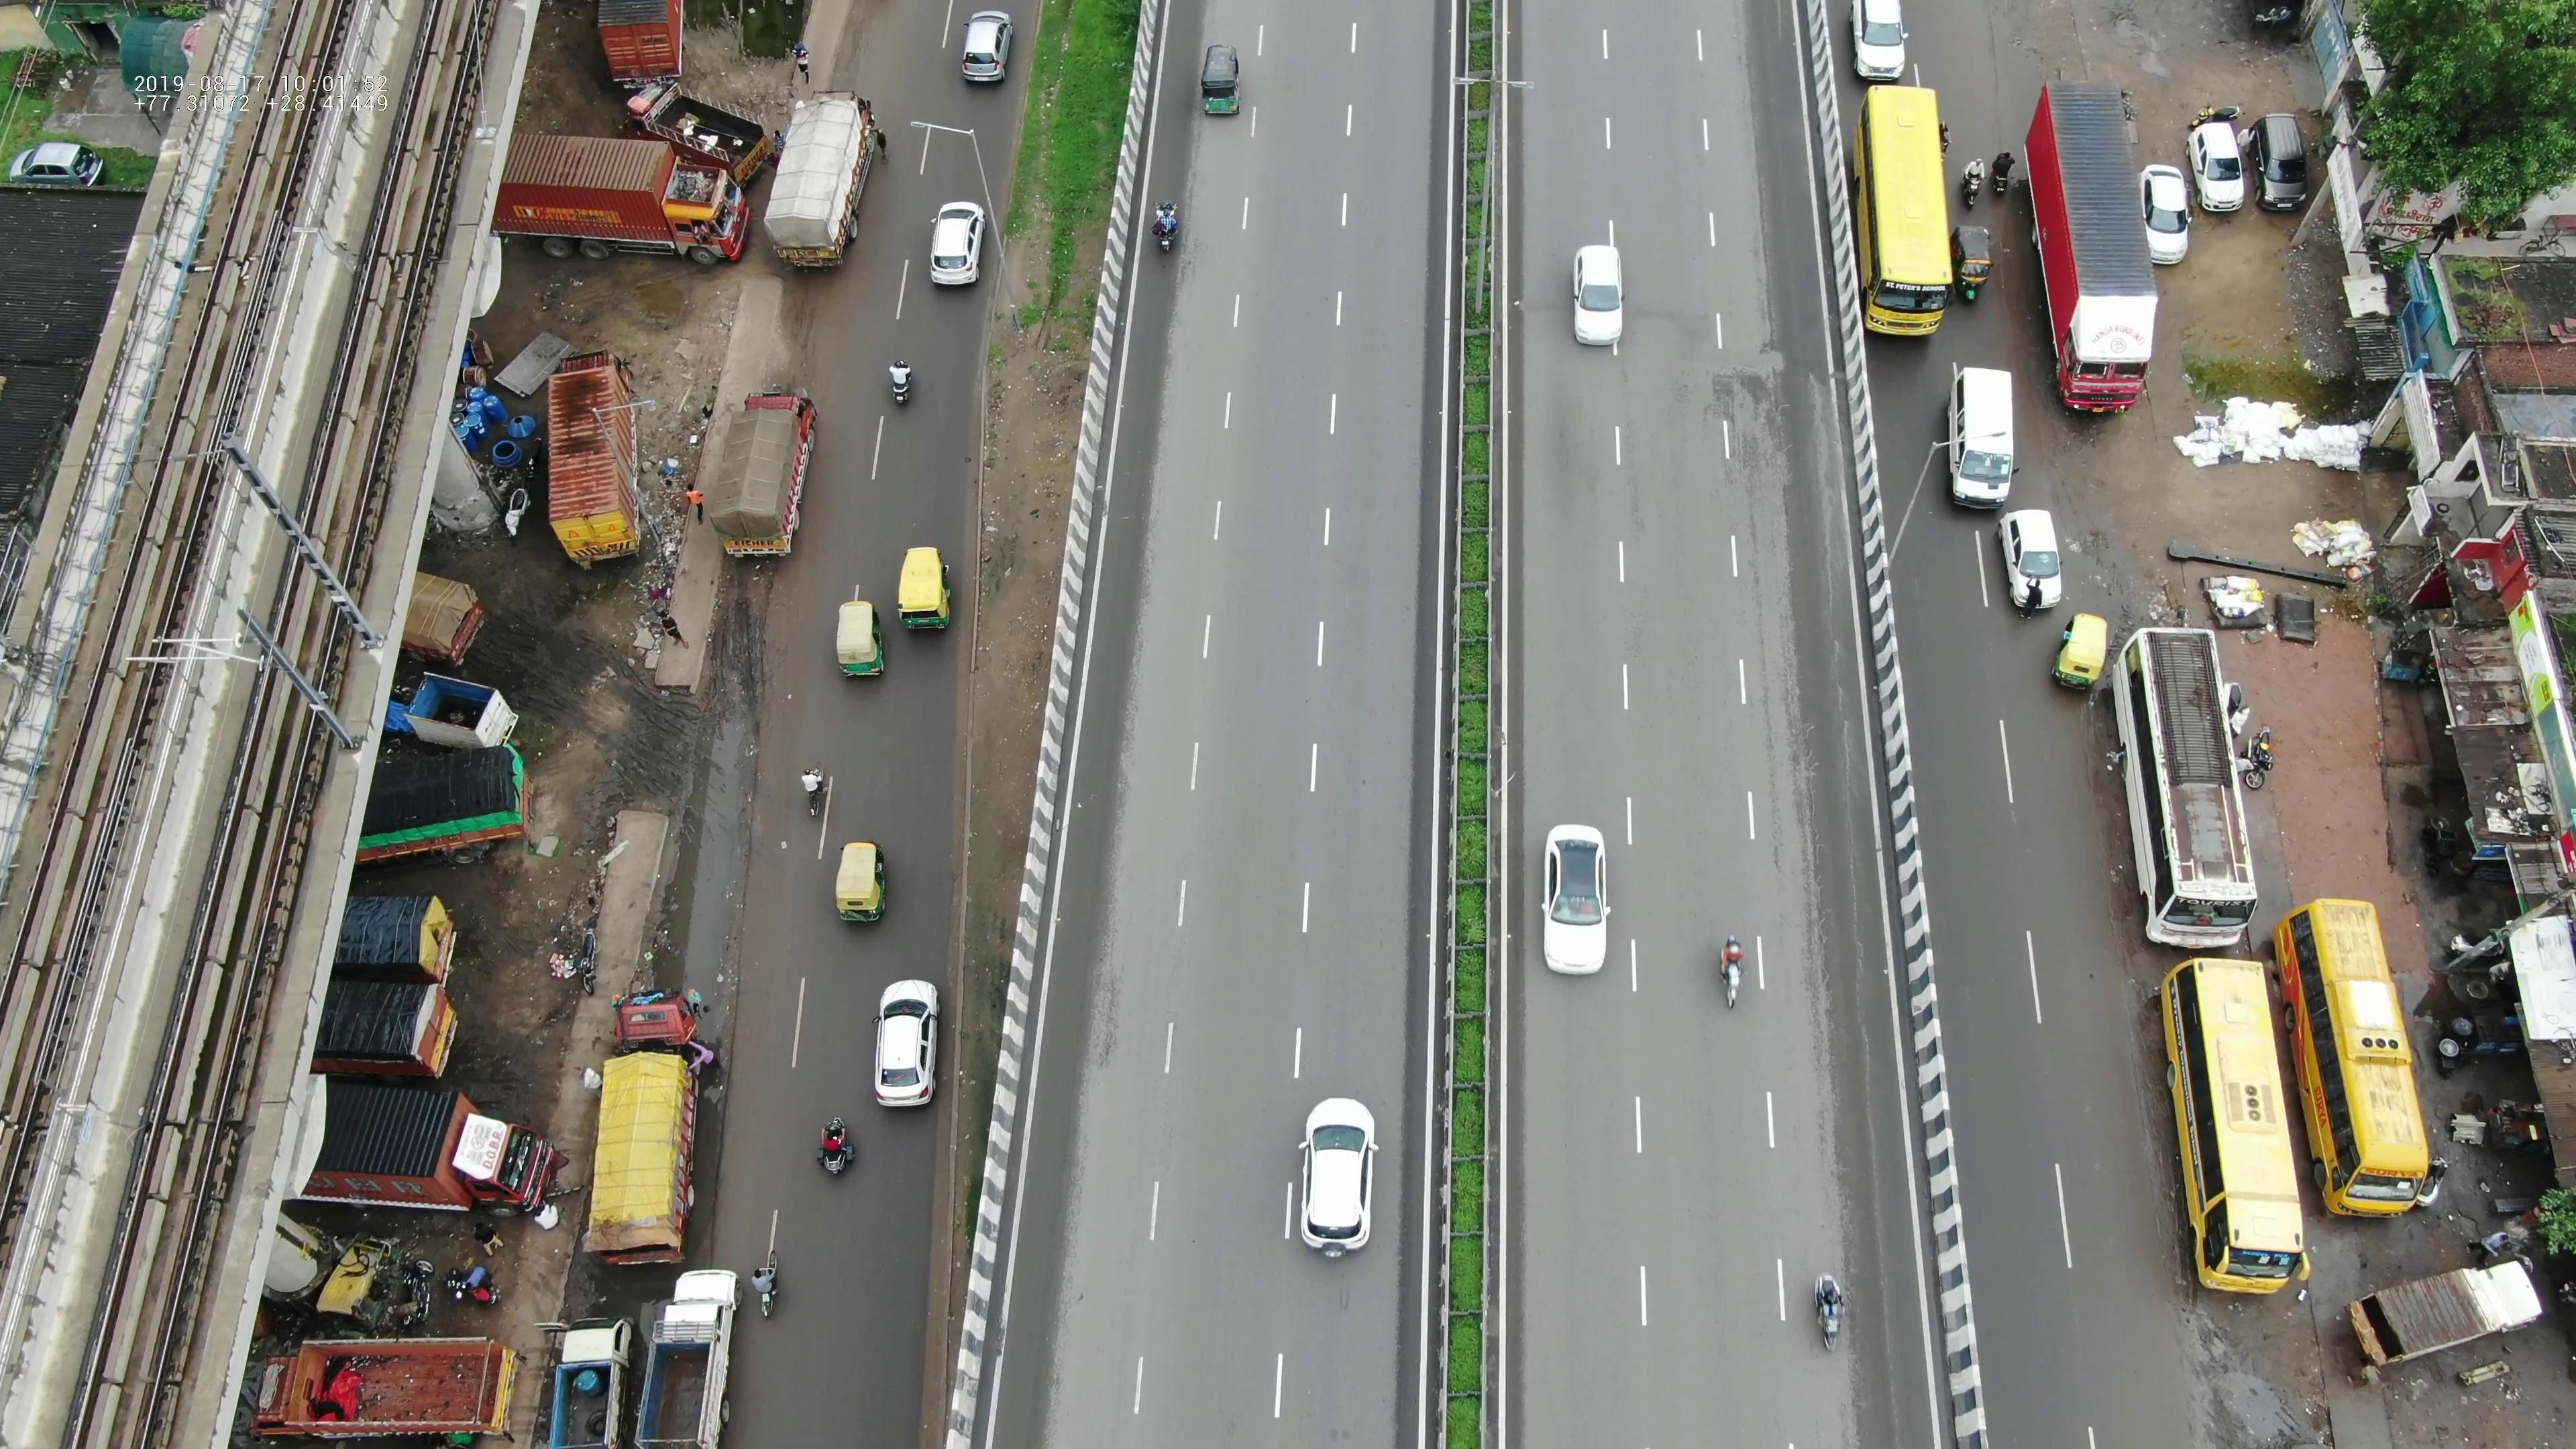Waterlogging: (1819, 869, 1911, 1267), (662, 706, 778, 985)
